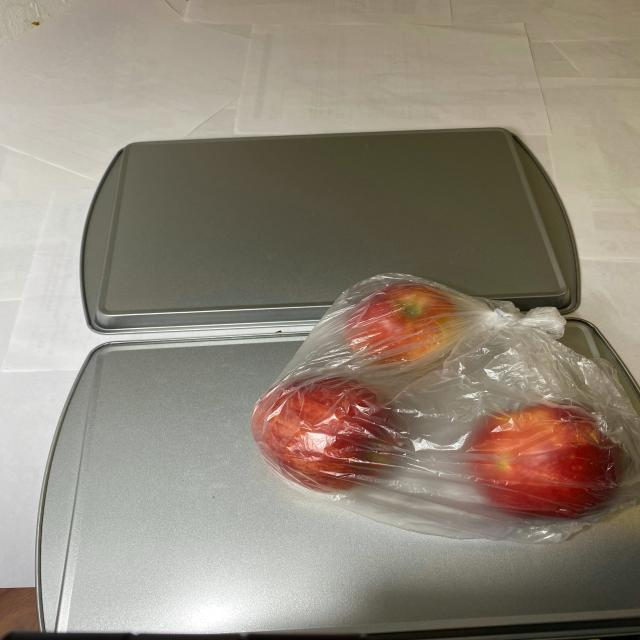apple: (247, 280, 627, 524)
